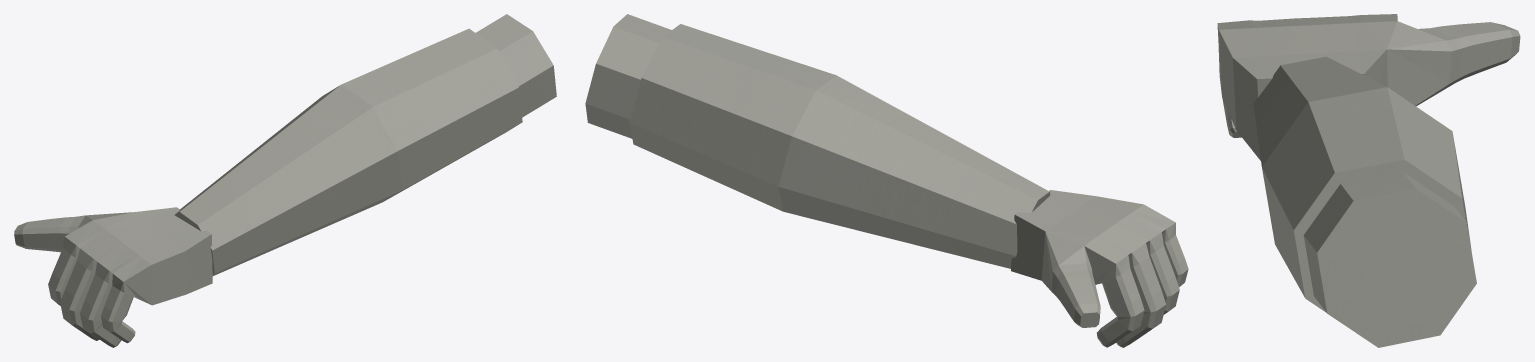
Rendered from right_arm.glb.
3 views of the same model, side by side, from view 1: azimuth 30°, elevation 25°; view 2: azimuth 150°, elevation 25°; view 3: azimuth 270°, elevation 25° (orthographic). The views are drawn at different scales.
Parts seen in each view (by area): view 1: right_arm; view 2: right_arm; view 3: right_arm.
Boxes of the visible parts, x1,y1,x2,y2 form: right_arm: (14, 14, 556, 347); right_arm: (585, 14, 1188, 347); right_arm: (1217, 14, 1520, 347).
Size of the model in its own units: 0.3436 by 0.1337 by 0.1153.
Materials: 1 (1 with a texture image).
